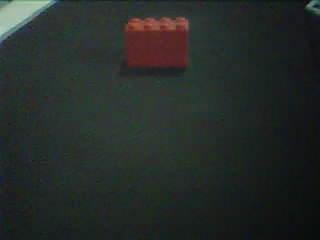lego: (123, 15, 190, 69)
